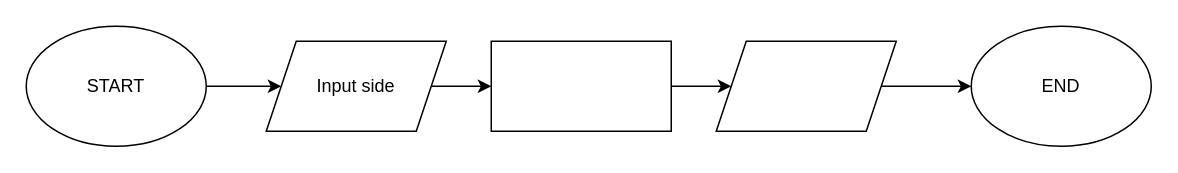
Image size: 1178x173. Some labels were removed from this diagram. Each missing label, with the centre of its shape:
"area = 6*side*side" belongs at pixel 580 85.
"Output area" belongs at pixel 805 85.
